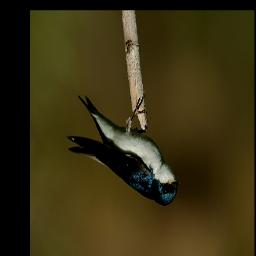Swallow: (65, 89, 181, 207)
